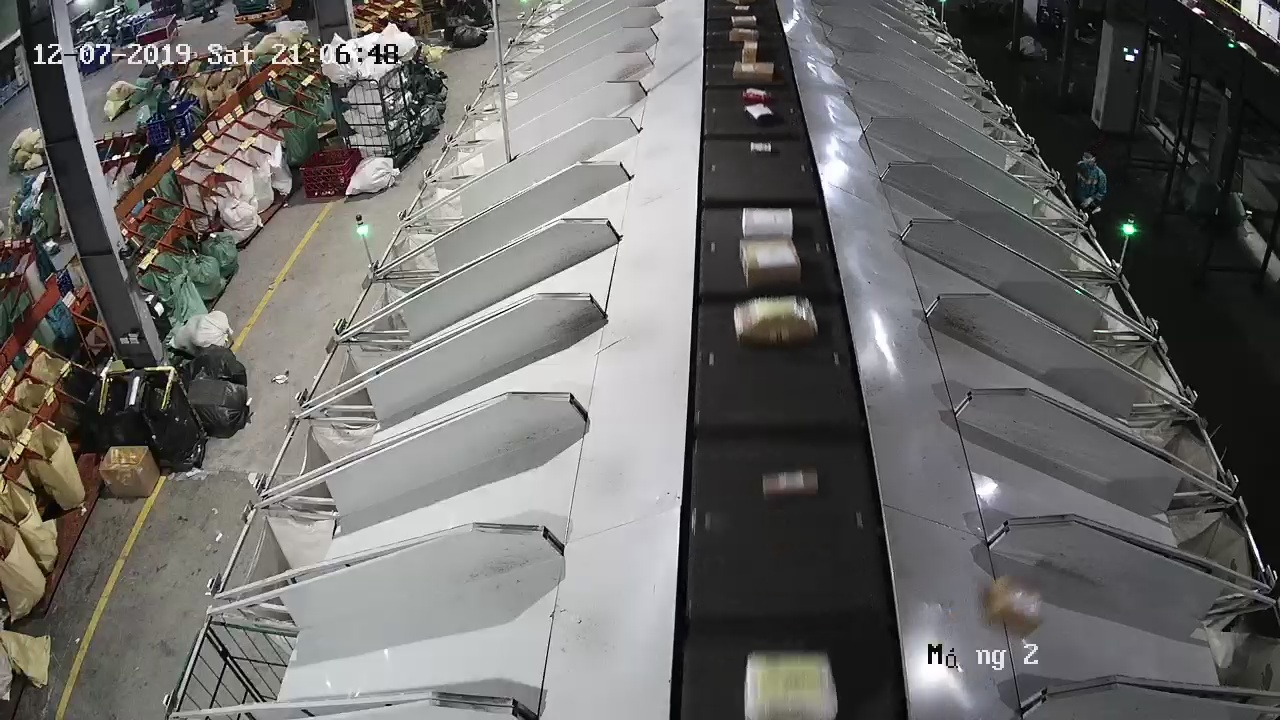parcel: (986, 572, 1044, 638)
